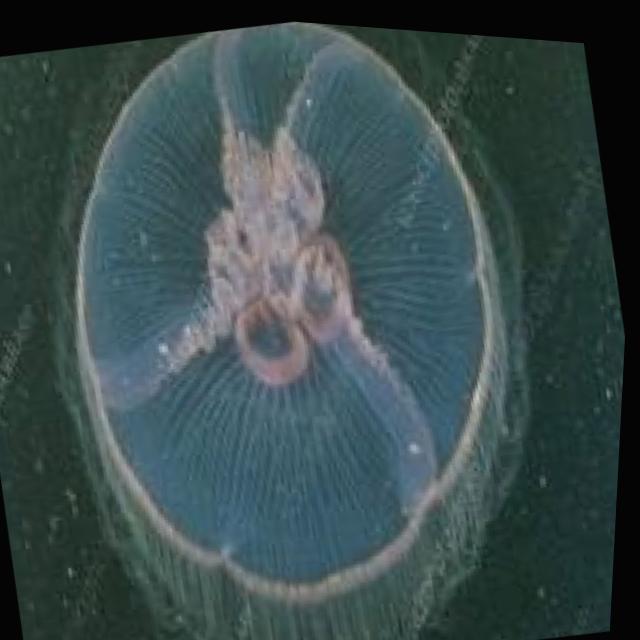Moon-jellyfish: (0, 1, 603, 640)
